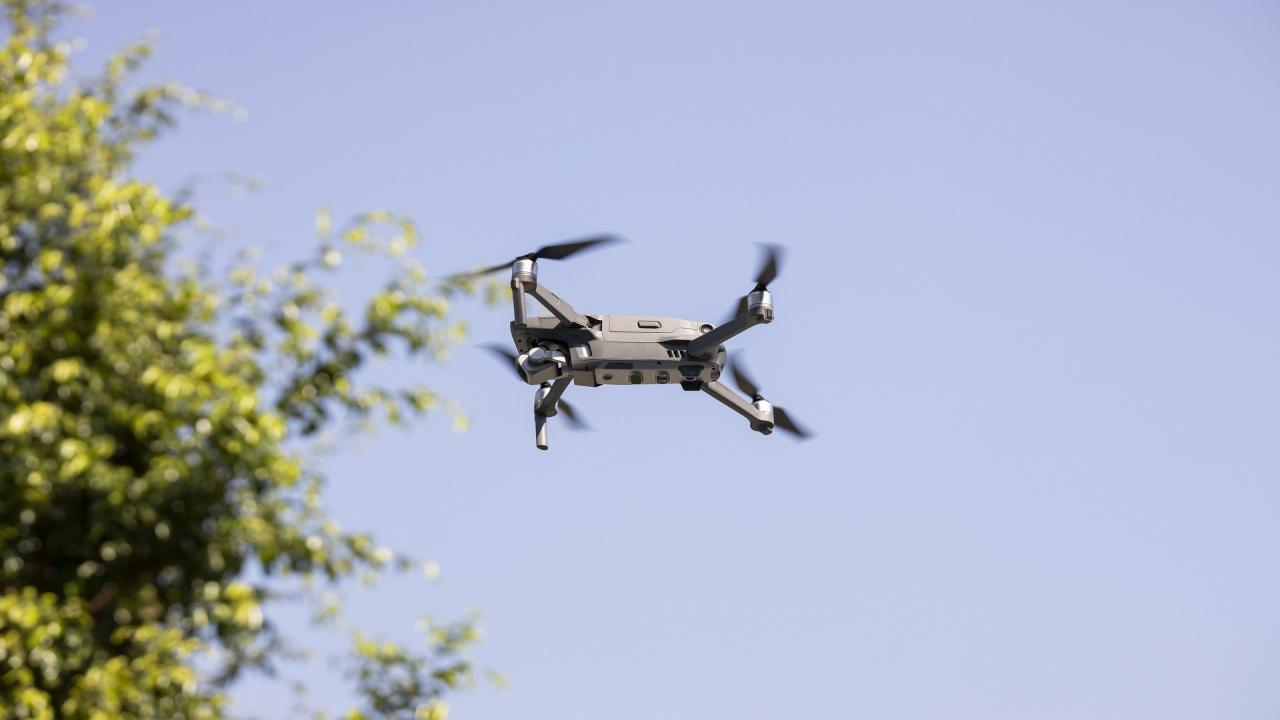Drone: (421, 222, 842, 466)
